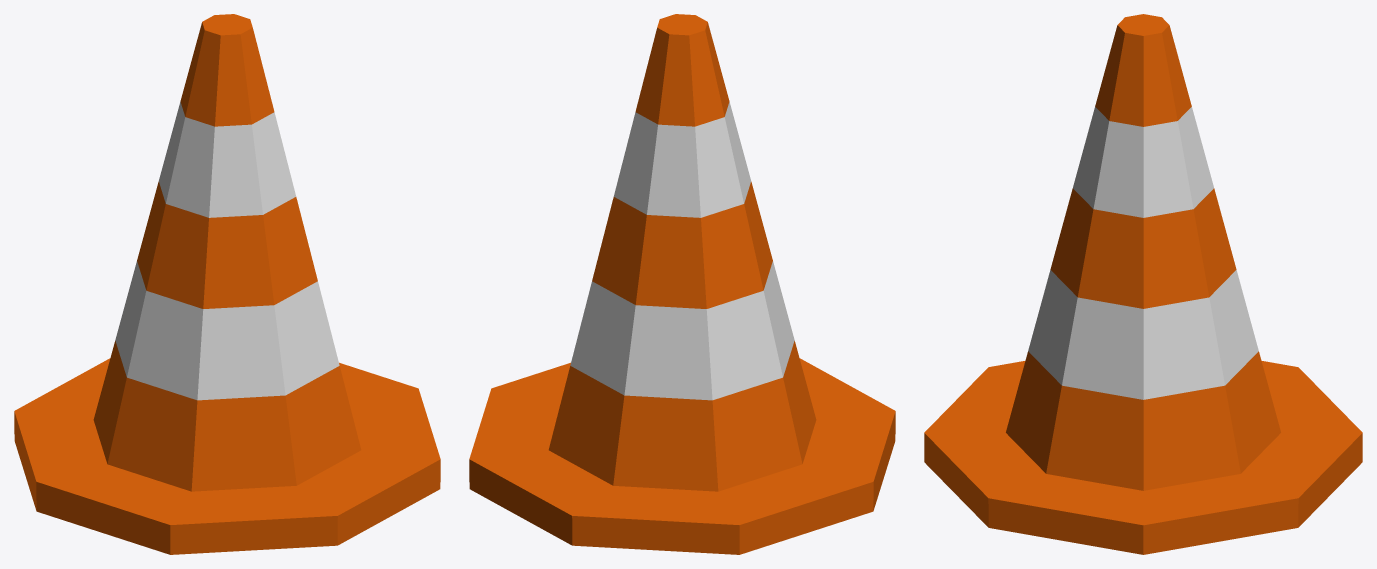
The model's file is trafficcone.fbx.
3 views of the same model, side by side, from view 1: azimuth 30°, elevation 25°; view 2: azimuth 150°, elevation 25°; view 3: azimuth 270°, elevation 25° (orthographic).
Visible parts, largest first — view 1: Cylinder.002; view 2: Cylinder.002; view 3: Cylinder.002.
Part boxes in pixels (left/top/right/bottom): Cylinder.002: left=14, top=14, right=440, bottom=554; Cylinder.002: left=469, top=14, right=895, bottom=554; Cylinder.002: left=924, top=14, right=1362, bottom=554.
Bounding box in the file's own units: 1.82 × 2 × 1.82.
